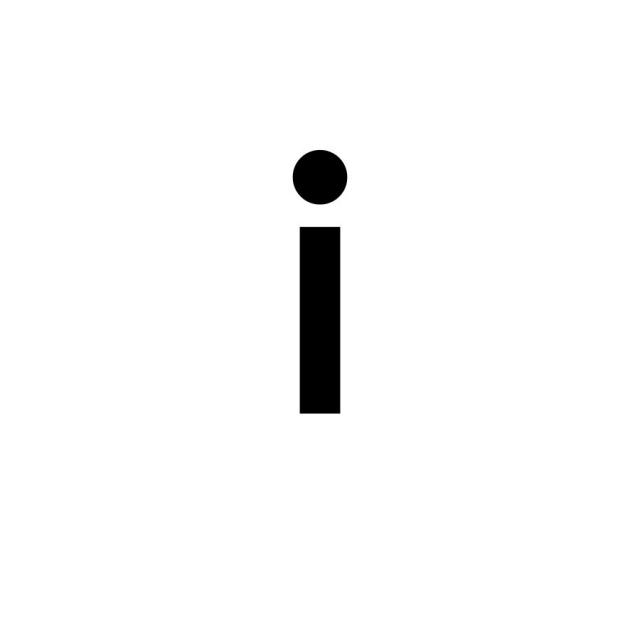I: (276, 207, 368, 429)
